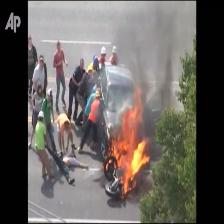fire: (97, 104, 168, 202)
nofire: (92, 96, 101, 126)
smoke: (116, 0, 198, 100)
